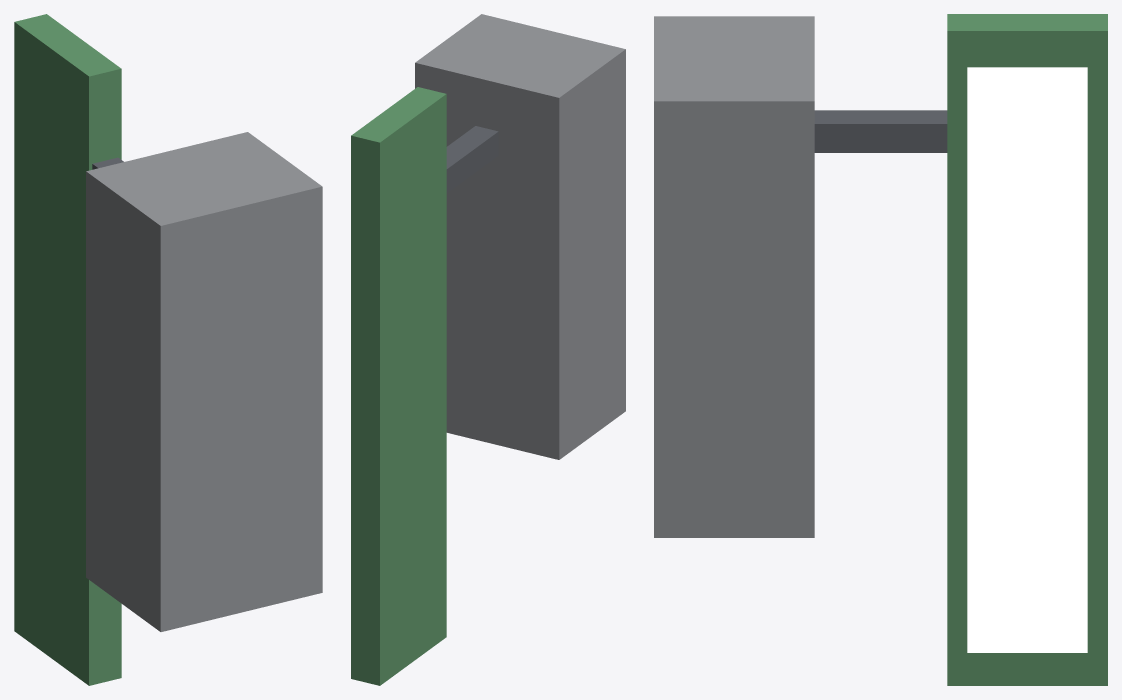
Rendered from prop_kanban_sode_vert_green.glb.
3 views of the same model, side by side, from view 1: azimuth 30°, elevation 25°; view 2: azimuth 150°, elevation 25°; view 3: azimuth 270°, elevation 25° (orthographic). The views are drawn at different scales.
Parts seen in each view (by area): view 1: kanban_sode_vert_green; view 2: kanban_sode_vert_green; view 3: kanban_sode_vert_green.
Part boxes in pixels (box(x1,y1,x2,y2)): kanban_sode_vert_green: box(14, 14, 322, 685); kanban_sode_vert_green: box(351, 14, 625, 685); kanban_sode_vert_green: box(654, 14, 1107, 685).
Size of the model in its own units: 0.5 by 1.8 by 1.13.
